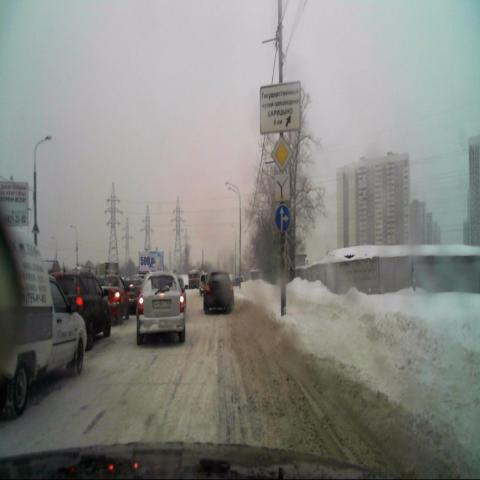4_1_4: (274, 203, 292, 233)
